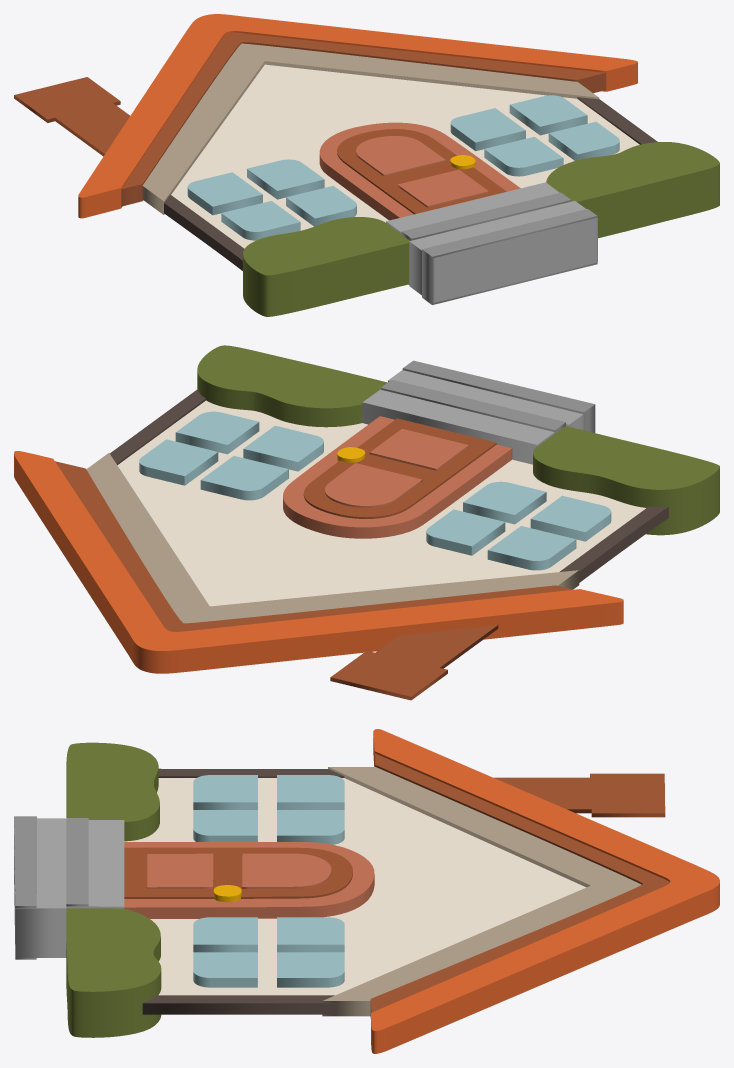
File: emoji_u1f3e0.glb
3 renders of one model, top to bottom at view 1: azimuth 30°, elevation 25°; view 2: azimuth 150°, elevation 25°; view 3: azimuth 270°, elevation 25°, orthographic. The views are drawn at different scales.
Parts seen in each view (by area): view 1: emoji_u1f3e0; view 2: emoji_u1f3e0; view 3: emoji_u1f3e0.
Boxes of the visible parts, <box> form: emoji_u1f3e0: <box>14,14,719,316</box>; emoji_u1f3e0: <box>14,345,719,700</box>; emoji_u1f3e0: <box>14,729,719,1053</box>.
Size of the model in its own units: 0.0338 by 0.0028 by 0.0334.
